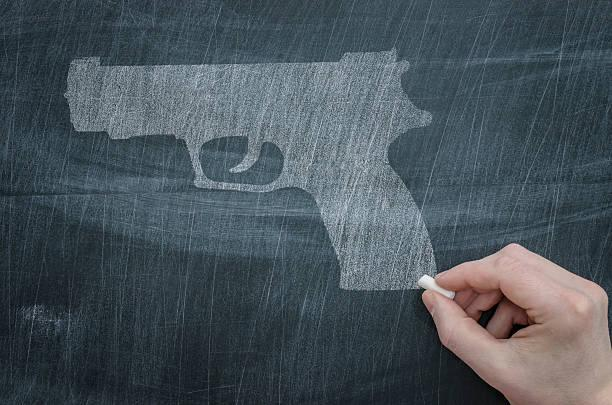weapon: (62, 52, 446, 292)
